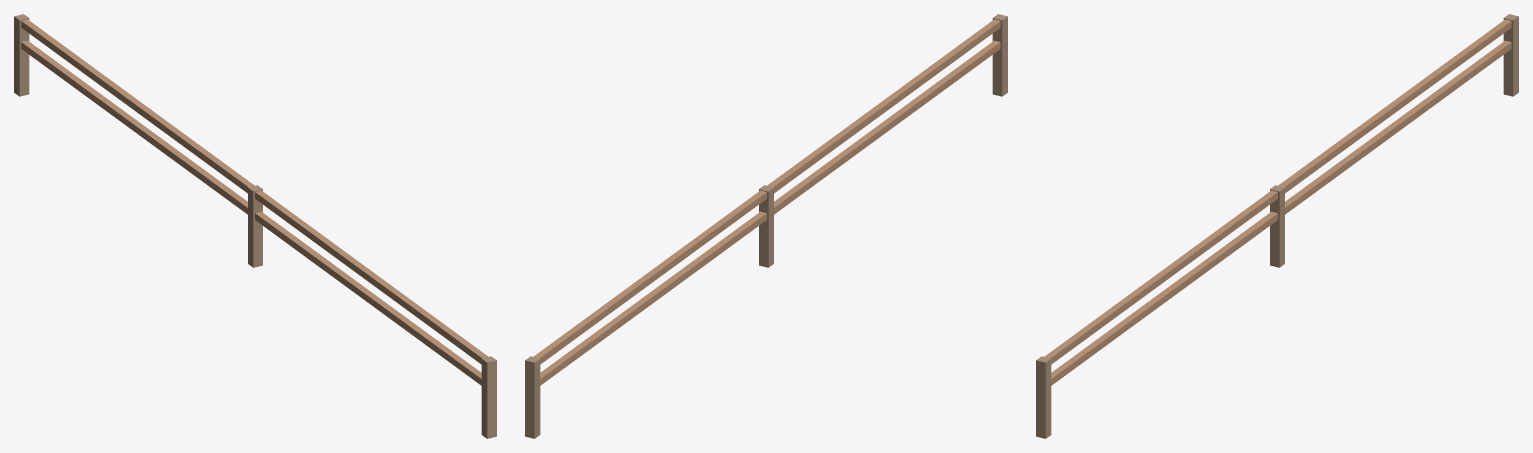
The model's file is Prop_Guardrail.glb.
The picture shows the model from 3 angles, left to right: view 1: azimuth 30°, elevation 25°; view 2: azimuth 150°, elevation 25°; view 3: azimuth 330°, elevation 25°; orthographic projection.
Size of the model in its own units: 0.12 by 0.9 by 10.12.
